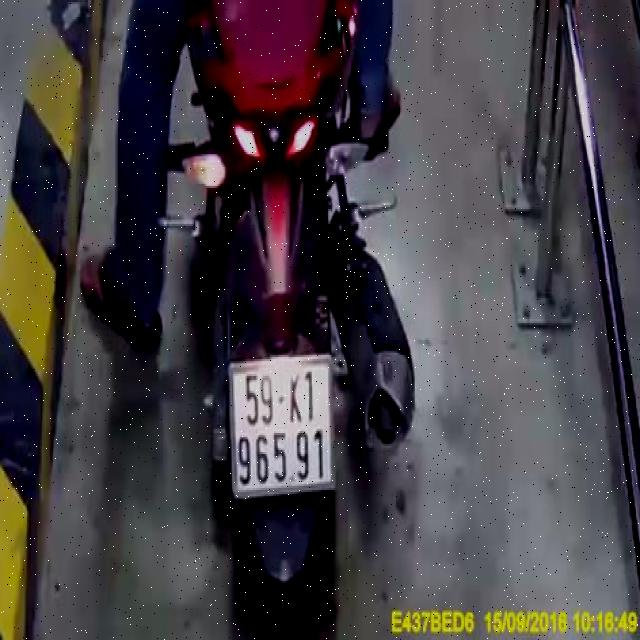1: (303, 364, 319, 427), (313, 429, 326, 478)
5: (242, 371, 262, 426), (270, 422, 288, 481)
6: (253, 427, 272, 488)
9: (258, 370, 278, 426), (293, 427, 312, 484), (234, 432, 253, 485)
K: (287, 366, 304, 424)
